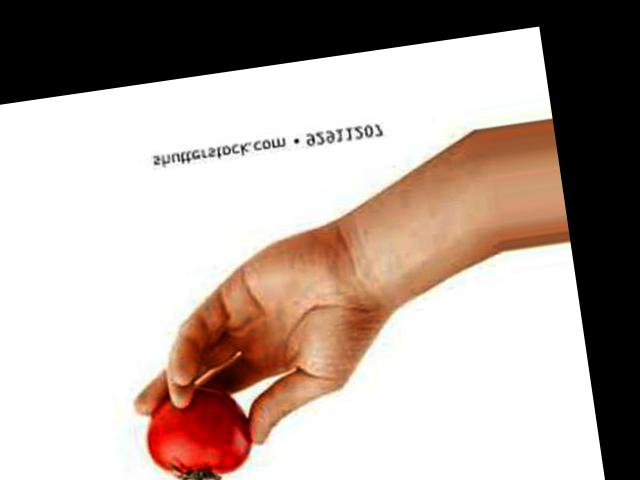tomato: (140, 380, 257, 480)
